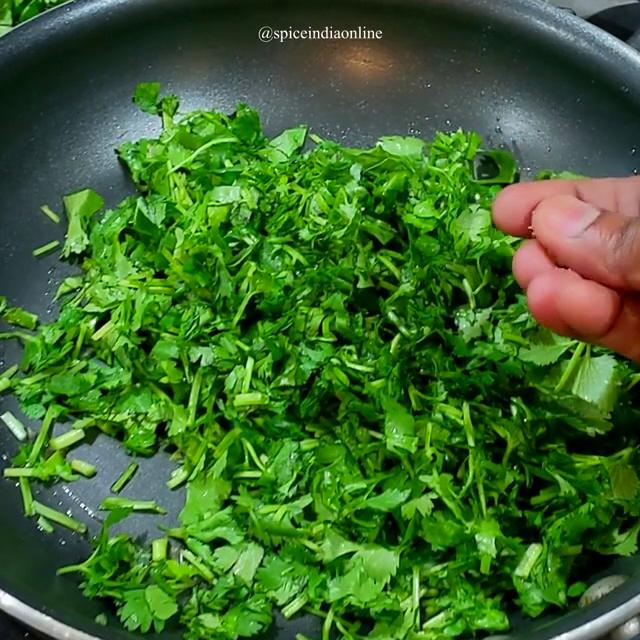cilantro: (113, 130, 531, 631)
